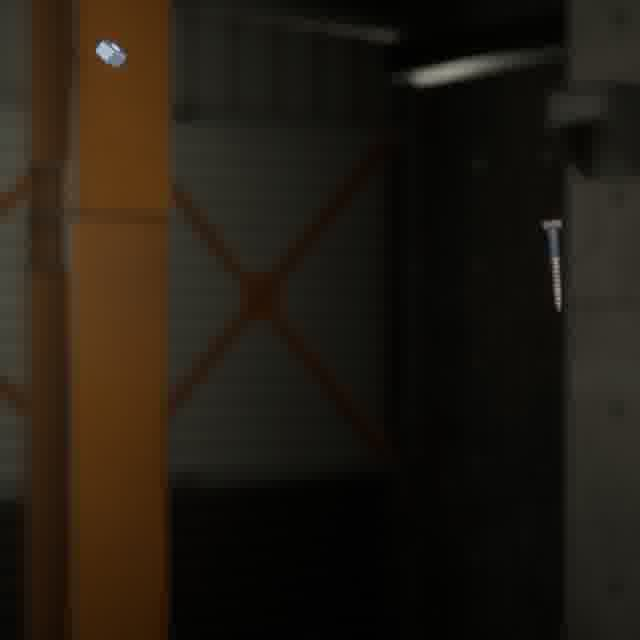bolt: (537, 214, 566, 316)
nut: (90, 33, 131, 72)
